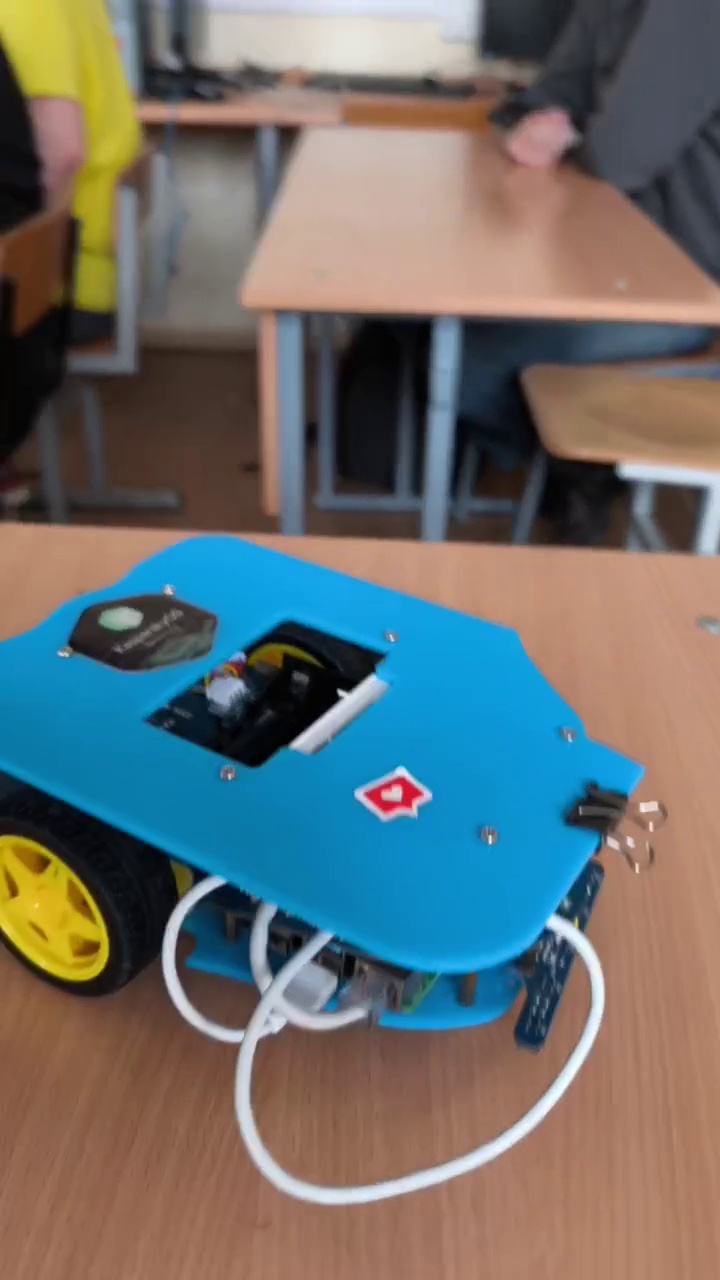robot: (1, 529, 666, 1207)
